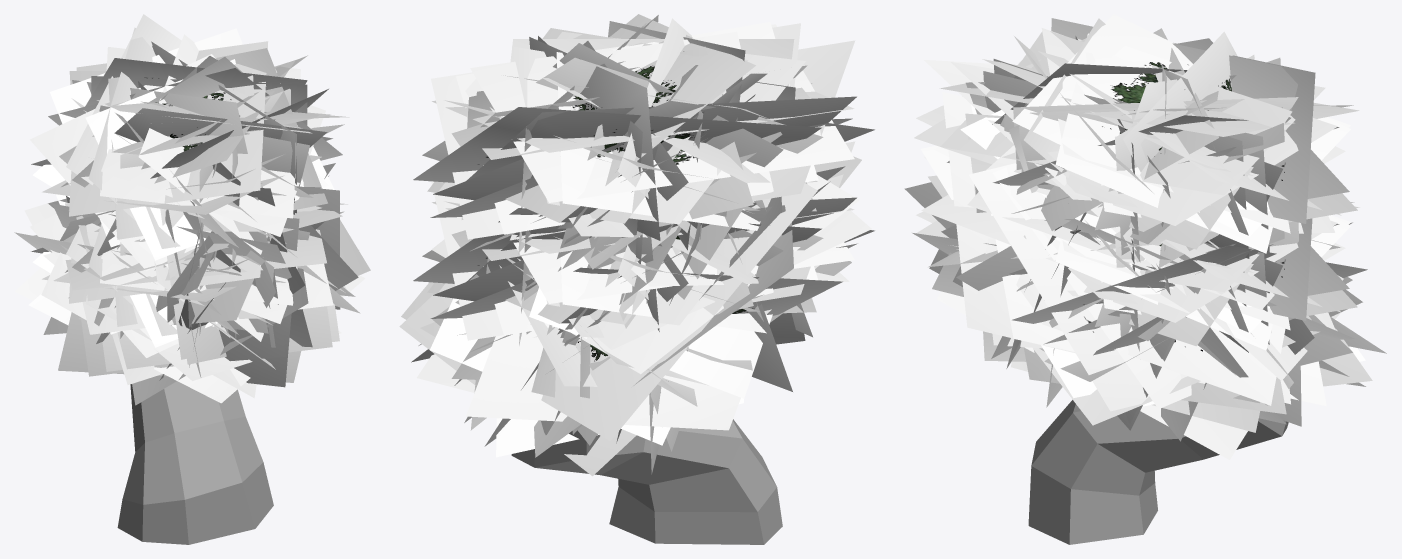
The model's file is Bonsai.fbx.
3 renders of one model, left to right at view 1: azimuth 30°, elevation 25°; view 2: azimuth 150°, elevation 25°; view 3: azimuth 270°, elevation 25°, orthographic. The views are drawn at different scales.
Visible parts, largest first — view 1: pPlane172, pPlane171, polySurface180, pPlane168; view 2: pPlane172, pPlane171, pPlane168, polySurface180; view 3: pPlane172, pPlane171, pPlane168, polySurface180.
Part boxes in pixels (bbox=[...]): pPlane172: bbox=[30, 14, 349, 279]; pPlane171: bbox=[14, 163, 370, 405]; polySurface180: bbox=[117, 294, 273, 544]; pPlane168: bbox=[30, 176, 347, 367]; pPlane172: bbox=[413, 14, 874, 269]; pPlane171: bbox=[399, 156, 871, 476]; pPlane168: bbox=[413, 141, 874, 370]; polySurface180: bbox=[511, 419, 782, 544]; pPlane172: bbox=[914, 14, 1359, 266]; pPlane171: bbox=[904, 92, 1386, 459]; pPlane168: bbox=[914, 156, 1359, 352]; polySurface180: bbox=[1028, 229, 1288, 544].
Bounding box in the file's own units: 0.6239 × 0.8031 × 0.7531.
